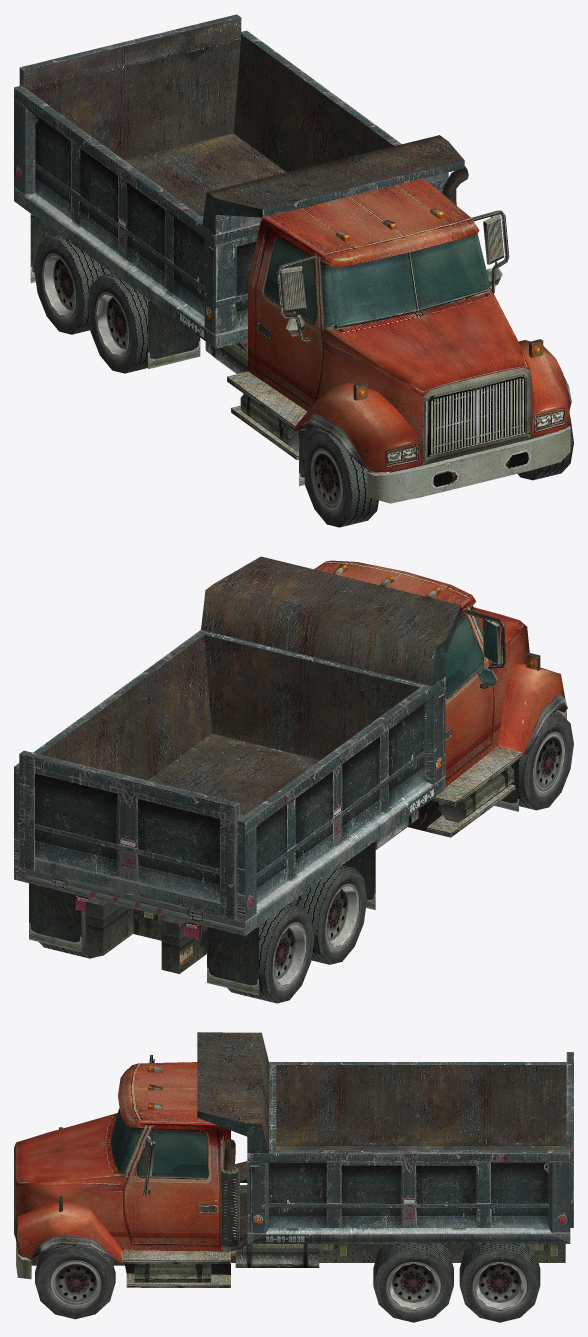
File: dumptruck.fbx
3 renders of one model, top to bottom at view 1: azimuth 30°, elevation 25°; view 2: azimuth 150°, elevation 25°; view 3: azimuth 270°, elevation 25°, orthographic. The views are drawn at different scales.
Visible parts, largest first — view 1: mesh_11, mesh_28, mesh_30, mesh_29, mesh_41, mesh_42, mesh_32, mesh_16, mesh_8, mesh_34, mesh_38, mesh_15 (+2 smaller); view 2: mesh_28, mesh_30, mesh_29, mesh_11, mesh_12, mesh_42, mesh_32, mesh_41, mesh_6, mesh_0, mesh_8, mesh_16 (+1 smaller); view 3: mesh_28, mesh_11, mesh_29, mesh_44, mesh_43, mesh_31, mesh_12, mesh_25, mesh_3, mesh_18, mesh_30.
Boxes of the visible parts, left/top/right/bottom form: mesh_11: left=227, top=178, right=571, bottom=503; mesh_28: left=14, top=30, right=447, bottom=348; mesh_30: left=19, top=14, right=241, bottom=159; mesh_29: left=202, top=135, right=464, bottom=234; mesh_41: left=303, top=429, right=378, bottom=527; mesh_42: left=87, top=273, right=147, bottom=373; mesh_32: left=34, top=234, right=111, bottom=334; mesh_16: left=148, top=299, right=200, bottom=369; mesh_8: left=240, top=394, right=298, bottom=450; mesh_34: left=281, top=266, right=306, bottom=312; mesh_38: left=483, top=214, right=504, bottom=264; mesh_15: left=205, top=342, right=247, bottom=373; mesh_28: left=14, top=630, right=445, bottom=935; mesh_30: left=19, top=750, right=239, bottom=919; mesh_29: left=201, top=556, right=461, bottom=685; mesh_11: left=314, top=560, right=567, bottom=837; mesh_12: left=85, top=898, right=206, bottom=973; mesh_42: left=290, top=865, right=367, bottom=964; mesh_32: left=227, top=904, right=314, bottom=1003; mesh_41: left=519, top=712, right=573, bottom=810; mesh_6: left=207, top=926, right=258, bottom=995; mesh_0: left=29, top=883, right=81, bottom=952; mesh_8: left=439, top=766, right=513, bottom=822; mesh_16: left=342, top=841, right=375, bottom=909; mesh_28: left=247, top=1062, right=570, bottom=1243; mesh_11: left=14, top=1062, right=230, bottom=1287; mesh_29: left=197, top=1032, right=268, bottom=1152; mesh_44: left=459, top=1244, right=540, bottom=1322; mesh_43: left=373, top=1244, right=453, bottom=1322; mesh_31: left=35, top=1245, right=115, bottom=1319; mesh_12: left=27, top=1186, right=565, bottom=1265; mesh_25: left=235, top=1244, right=319, bottom=1267; mesh_3: left=220, top=1167, right=239, bottom=1247; mesh_18: left=134, top=1263, right=211, bottom=1282; mesh_30: left=566, top=1052, right=573, bottom=1227.
Bounding box in the file's own units: 337 × 341 × 843.
2 materials, 2 textured.
